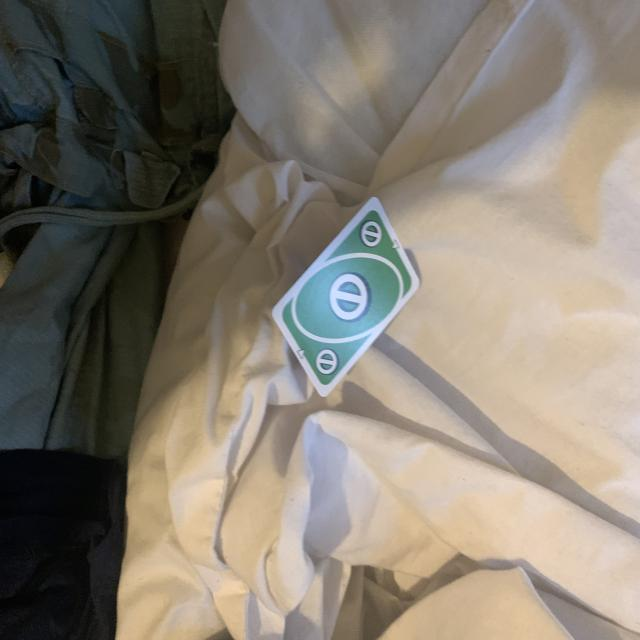lgreenskip-20: (356, 216, 386, 252)
